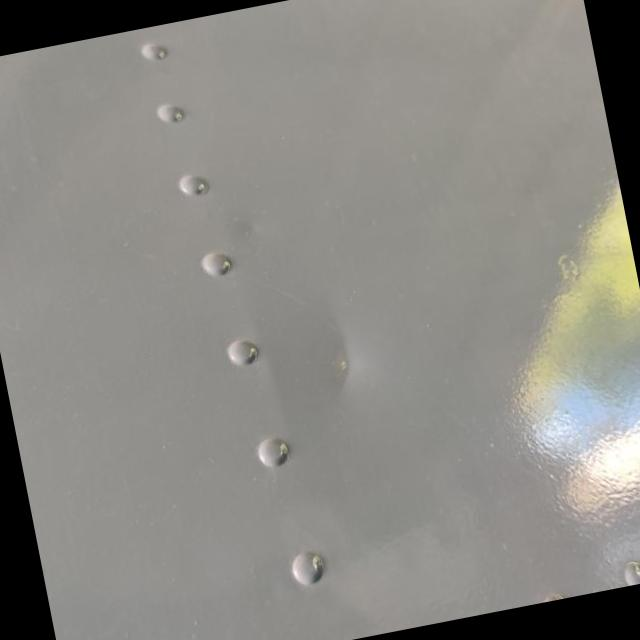Dent: (312, 302, 376, 413)
